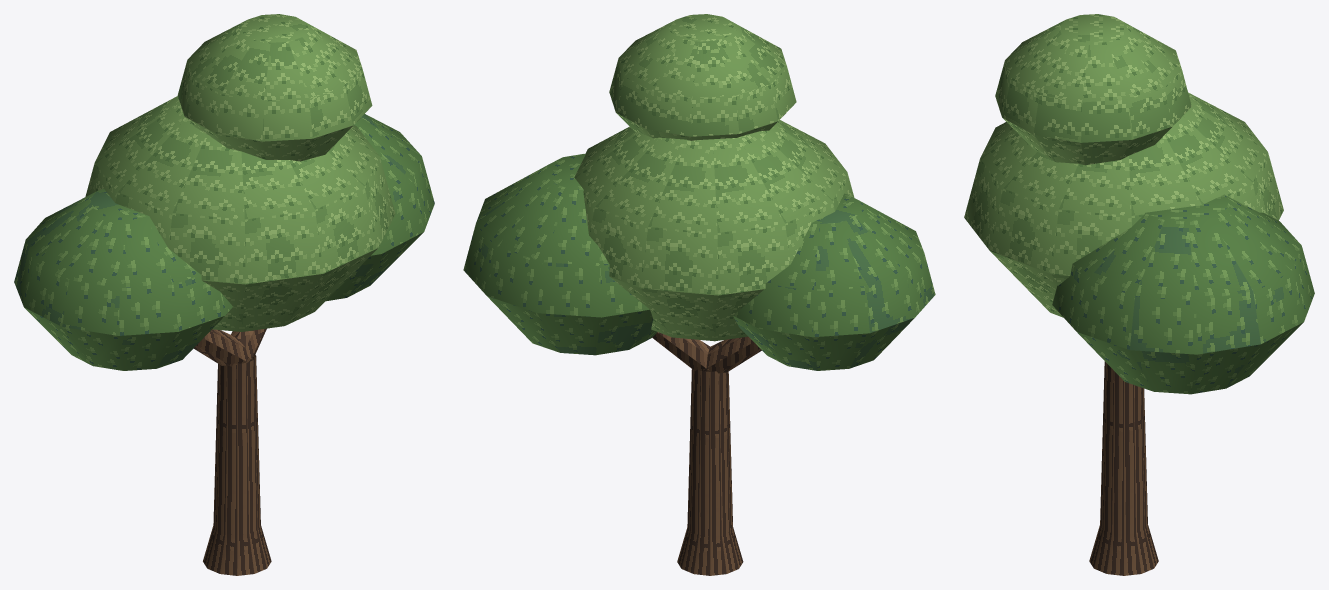
Rendered from oak_6.glb.
3 views of the same model, side by side, from view 1: azimuth 30°, elevation 25°; view 2: azimuth 150°, elevation 25°; view 3: azimuth 270°, elevation 25° (orthographic). The views are drawn at different scales.
Visible parts, largest first — view 1: oak_7; view 2: oak_7; view 3: oak_7.
Boxes of the visible parts, x1,y1,x2,y2 form: oak_7: (14,14,434,575); oak_7: (463,14,935,575); oak_7: (964,14,1314,575).
Bounding box in the file's own units: 3.65 × 4.44 × 2.59.
Materials: 3 (3 with a texture image).
